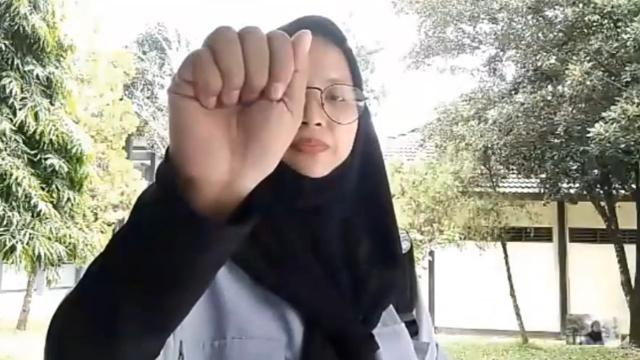A: (164, 25, 318, 189)
